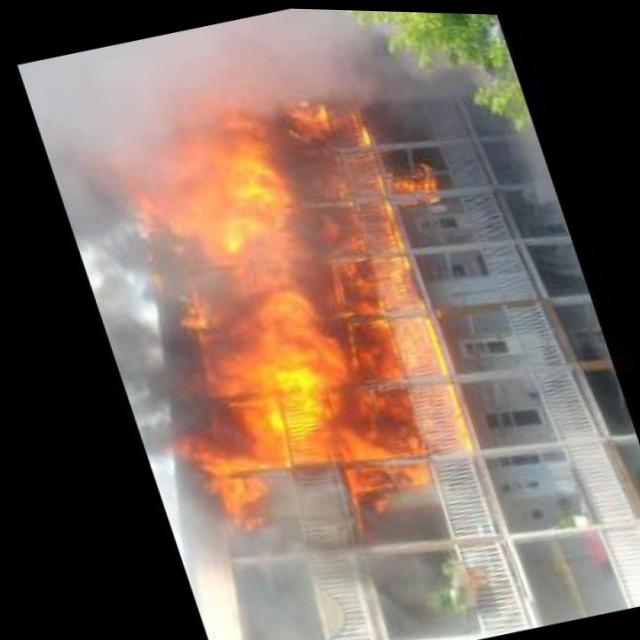Fire: (116, 107, 375, 504), (280, 79, 479, 486), (154, 468, 454, 640), (182, 4, 488, 153), (50, 170, 205, 451), (239, 100, 369, 351), (161, 424, 264, 543), (483, 100, 559, 225), (366, 137, 451, 211)
